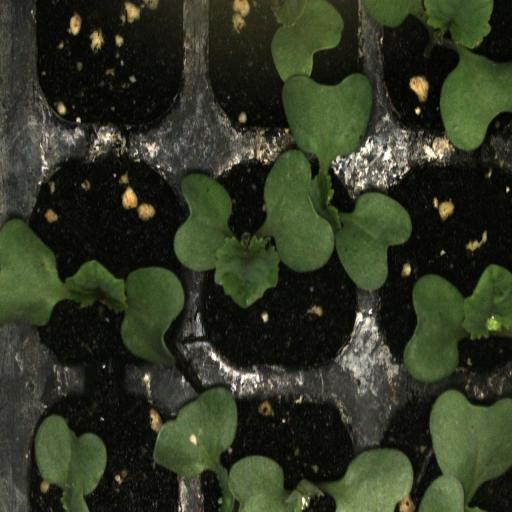Folha: (418, 389, 512, 512), (34, 414, 107, 512)
Germinacao: (196, 136, 373, 388), (15, 136, 195, 370), (375, 146, 512, 386), (198, 388, 369, 512), (379, 0, 512, 145)
